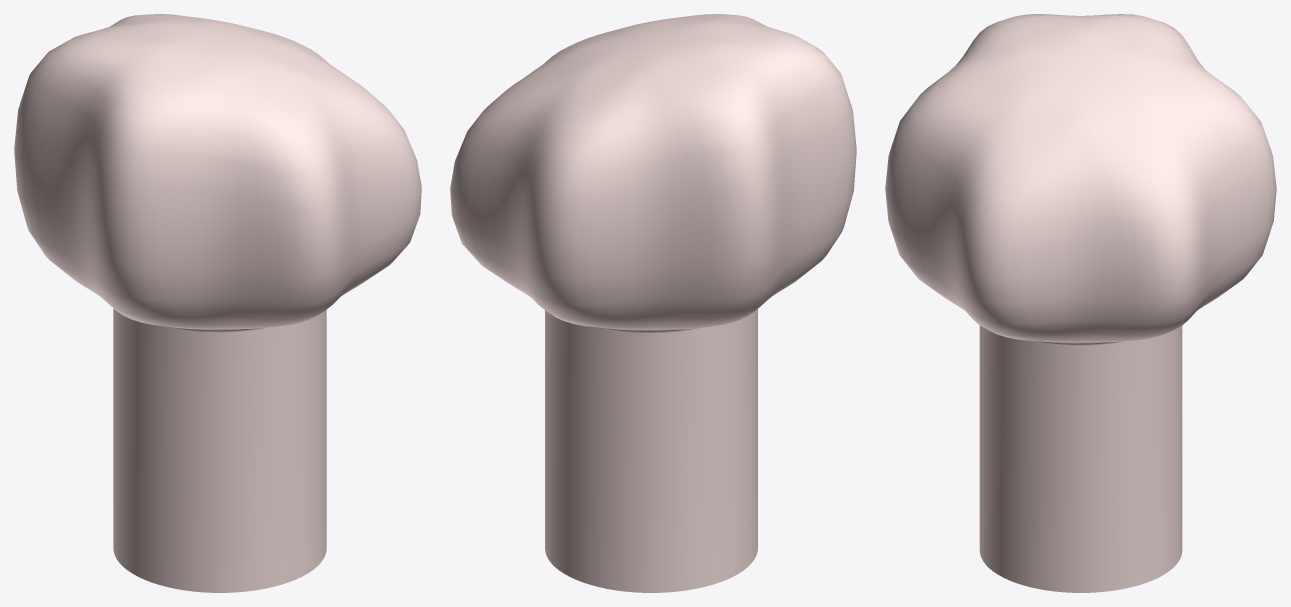
The model's file is Store_3_Sign_Chefs_hat_1.glb.
3 views of the same model, side by side, from view 1: azimuth 30°, elevation 25°; view 2: azimuth 150°, elevation 25°; view 3: azimuth 270°, elevation 25° (orthographic). The views are drawn at different scales.
Parts seen in each view (by area): view 1: Store_3_Sign_Chefs_hat_1; view 2: Store_3_Sign_Chefs_hat_1; view 3: Store_3_Sign_Chefs_hat_1.
Boxes of the visible parts, x1,y1,x2,y2 form: Store_3_Sign_Chefs_hat_1: (14, 14, 421, 592); Store_3_Sign_Chefs_hat_1: (450, 14, 856, 592); Store_3_Sign_Chefs_hat_1: (885, 14, 1276, 592).
Size of the model in its own units: 2.29 by 3.61 by 2.61.
Materials: 1 (1 with a texture image).
